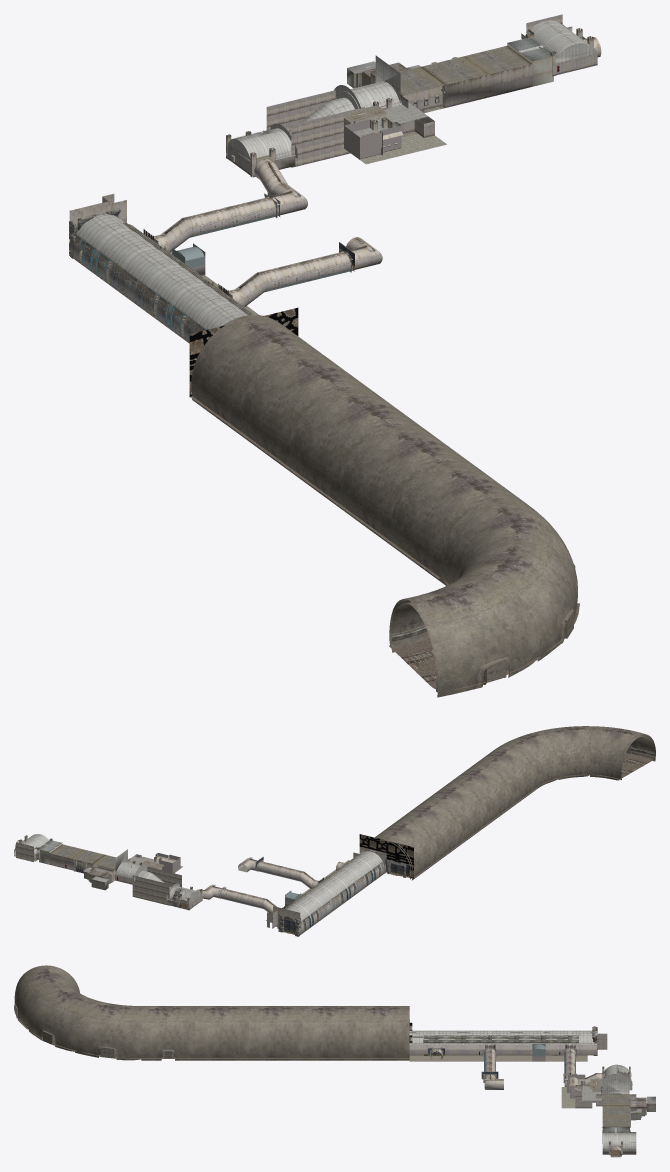
Rendered from station.glb.
3 views of the same model, one above another, from view 1: azimuth 30°, elevation 25°; view 2: azimuth 150°, elevation 25°; view 3: azimuth 270°, elevation 25° (orthographic). The views are drawn at different scales.
Parts seen in each view (by area): view 1: Base, LT_EscWall_S, LT_EscWall_N; view 2: Base, LT_EscWall_N, LT_EscWall_S; view 3: Base, LT_PlatformFloor.
Boxes of the visible parts, bbox=[...] form: Base: bbox=[69, 20, 601, 697]; LT_EscWall_S: bbox=[291, 107, 364, 167]; LT_EscWall_N: bbox=[266, 90, 335, 131]; Base: bbox=[14, 726, 655, 936]; LT_EscWall_N: bbox=[132, 875, 169, 905]; LT_EscWall_S: bbox=[147, 867, 181, 895]; Base: bbox=[14, 965, 655, 1157]; LT_PlatformFloor: bbox=[409, 1055, 587, 1061].
Bounding box in the file's own units: 169 × 22.66 × 244.
Materials: 87 (85 with a texture image).
